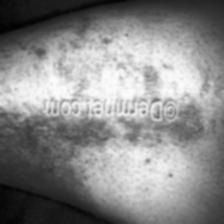Unclassified: (0, 123, 212, 185), (1, 40, 212, 96), (180, 88, 214, 144)
